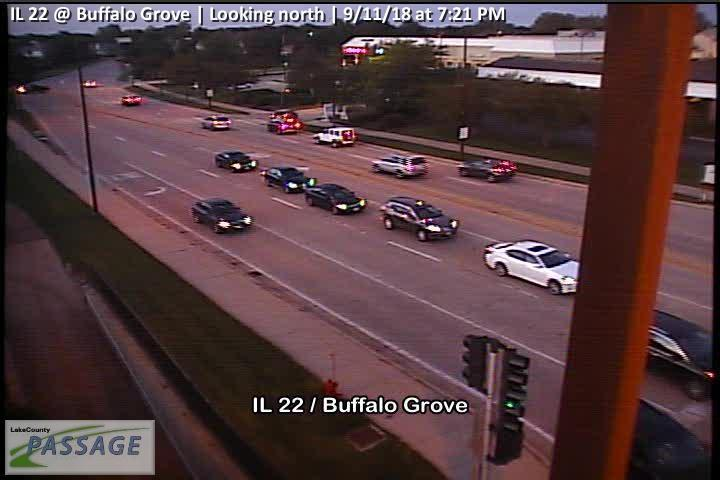SUV: (643, 306, 716, 398), (378, 196, 460, 242), (371, 151, 429, 179), (311, 126, 356, 148), (266, 112, 301, 134), (201, 115, 232, 130)
Sedan: (484, 240, 583, 295), (192, 197, 252, 233), (305, 182, 366, 215), (260, 165, 315, 193), (457, 158, 517, 183), (215, 150, 257, 172)
